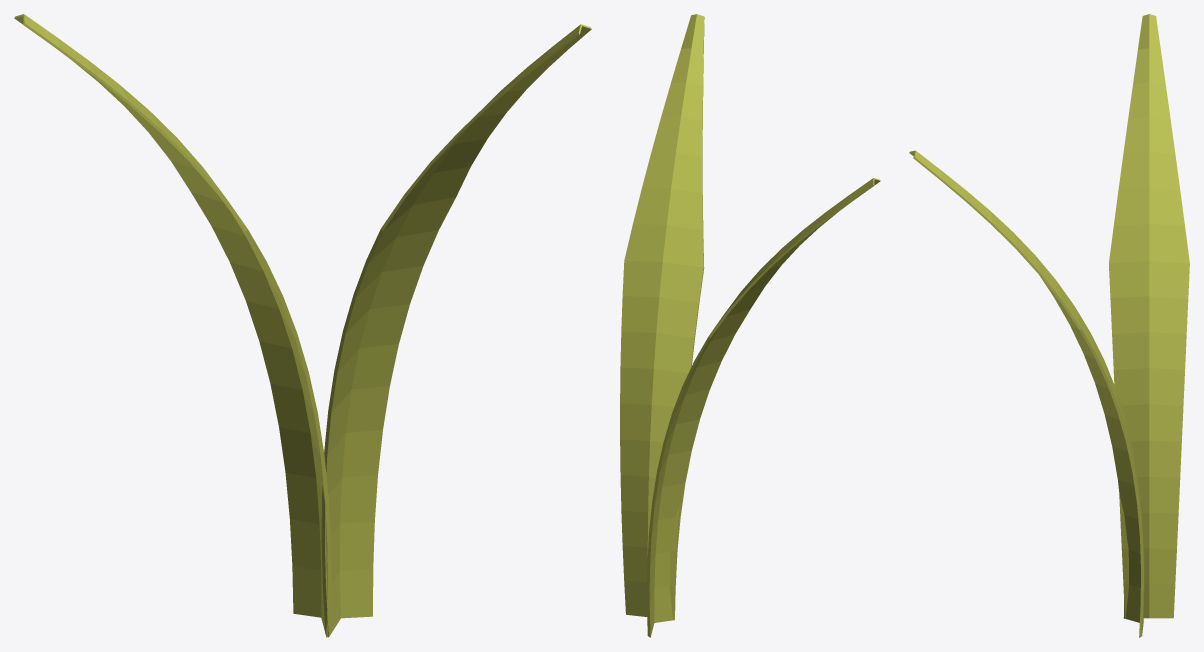
Rendered from grass_07.fbx.
The picture shows the model from 3 angles, left to right: view 1: azimuth 30°, elevation 25°; view 2: azimuth 150°, elevation 25°; view 3: azimuth 270°, elevation 25°; orthographic projection. The views are drawn at different scales.
Parts seen in each view (by area): view 1: Cube; view 2: Cube; view 3: Cube.
Part boxes in pixels (box(x1,y1,x2,y2)): Cube: box(14, 14, 591, 637); Cube: box(620, 14, 880, 637); Cube: box(909, 14, 1189, 637).
Bounding box in the file's own units: 58.01 × 92.69 × 46.42.
